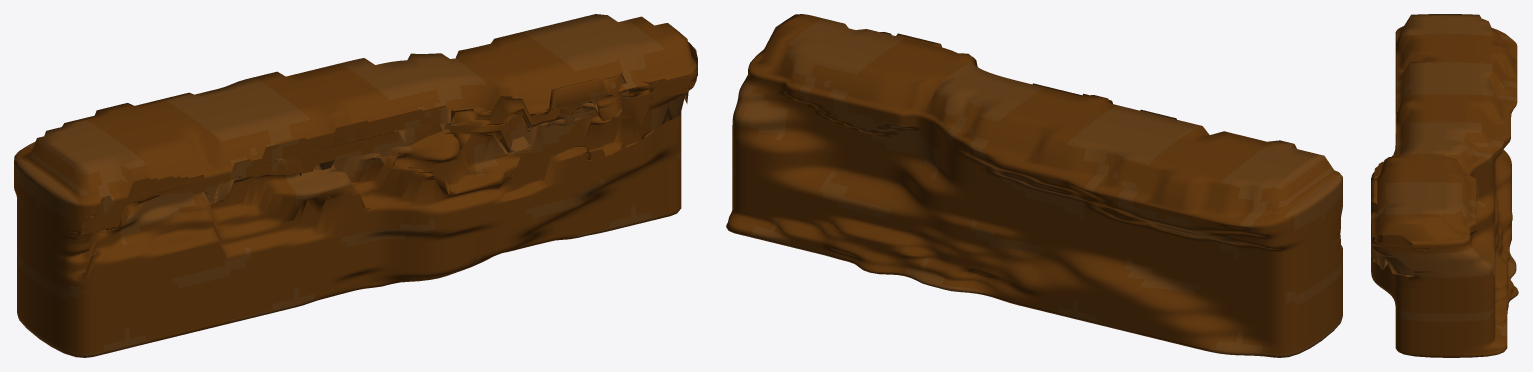
File: Cliff.fbx
3 views of the same model, side by side, from view 1: azimuth 30°, elevation 25°; view 2: azimuth 150°, elevation 25°; view 3: azimuth 270°, elevation 25° (orthographic). The views are drawn at different scales.
Visible parts, largest first — view 1: Cliff; view 2: Cliff; view 3: Cliff.
Boxes of the visible parts, box(x1,y1,x2,y2) form: Cliff: box(14, 14, 697, 357); Cliff: box(726, 14, 1342, 357); Cliff: box(1371, 14, 1518, 357).
Size of the model in its own units: 184470 by 51751 by 52052.
1 material, 1 textured.
